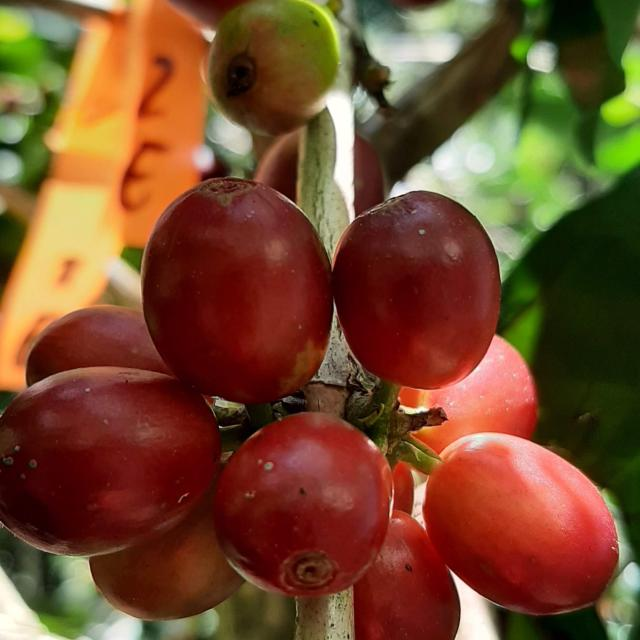red: (141, 178, 332, 405), (0, 367, 221, 557), (424, 433, 619, 616), (214, 413, 393, 599), (333, 191, 501, 389), (400, 335, 539, 454), (354, 511, 461, 640), (25, 306, 172, 386)
yellow: (88, 476, 243, 622), (208, 0, 339, 135)
